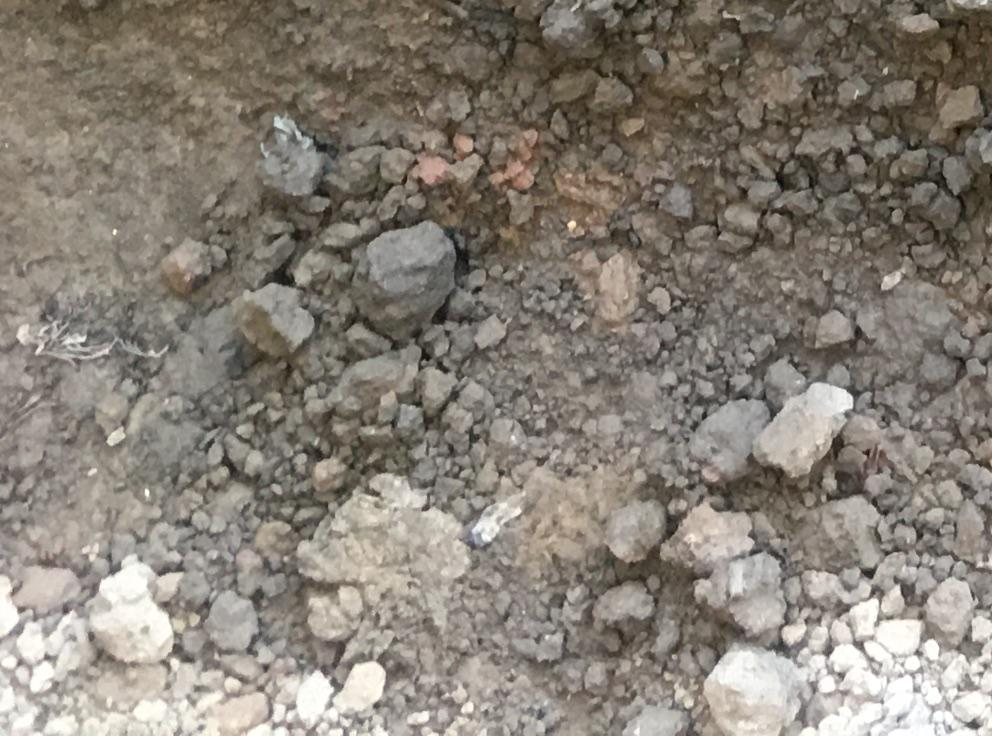block: (351, 220, 454, 340), (750, 374, 853, 483), (75, 558, 177, 665), (702, 644, 796, 736), (692, 549, 786, 638), (662, 500, 757, 573), (232, 280, 312, 358)
